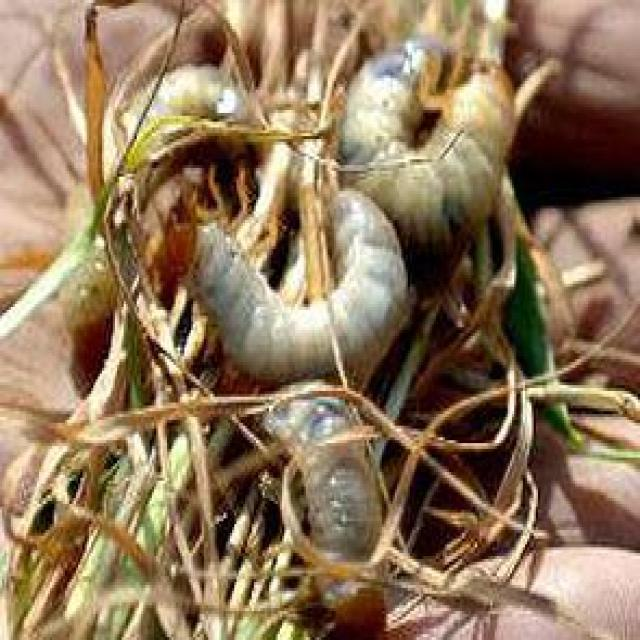Grub-Adult-: (161, 182, 417, 380), (327, 23, 540, 256), (265, 377, 404, 632)
